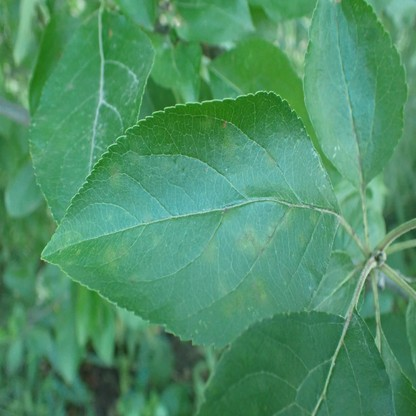frogeye_leaf_spot: (222, 122, 227, 128)
powdery_mildew: (351, 313, 368, 349)
scab: (267, 204, 295, 242), (219, 283, 245, 318), (235, 229, 266, 257), (102, 244, 129, 274), (245, 277, 267, 304), (200, 238, 217, 266), (264, 148, 280, 170), (223, 132, 237, 157), (109, 163, 122, 188), (200, 115, 212, 134), (296, 230, 307, 247), (308, 211, 319, 227)
